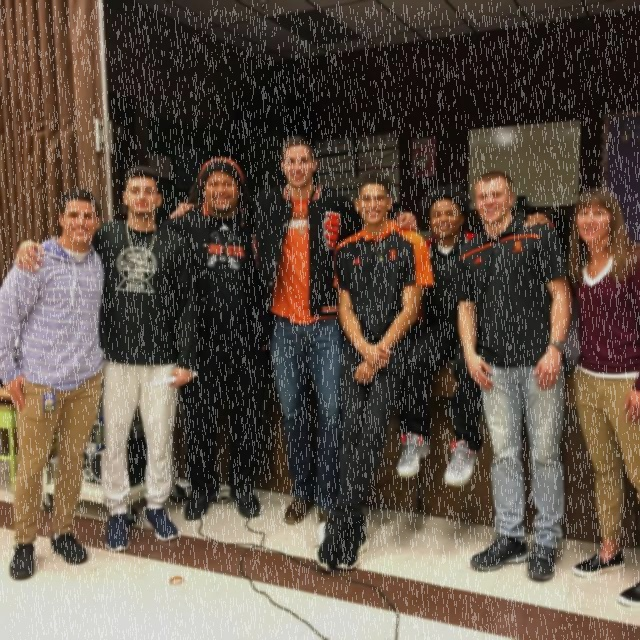pessoa: (167, 131, 422, 534), (12, 165, 202, 554), (0, 186, 147, 584), (454, 165, 576, 589), (528, 185, 640, 620), (312, 164, 424, 576), (164, 153, 268, 523), (392, 182, 487, 490)
